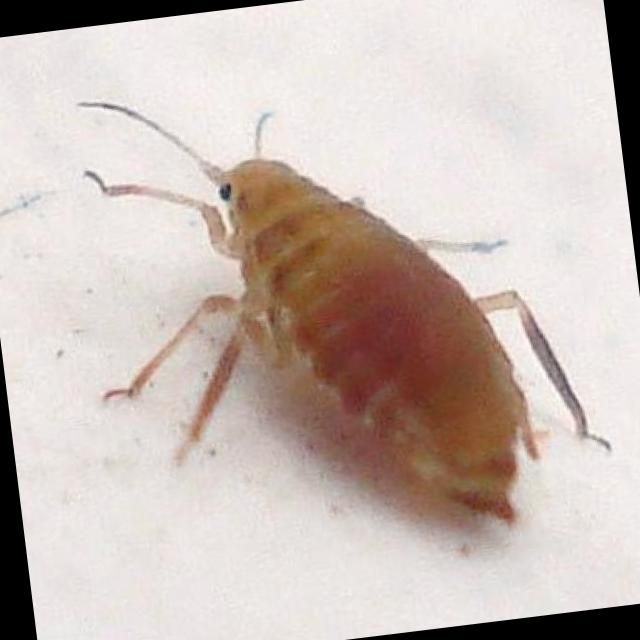aphid: (32, 27, 638, 589)
